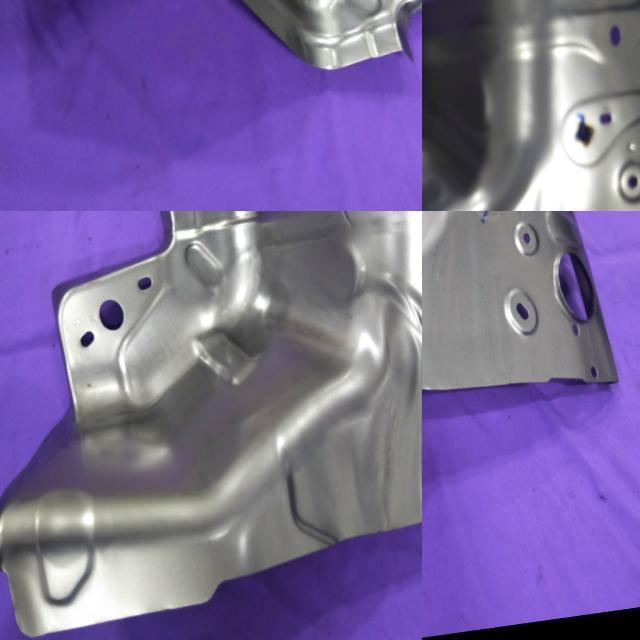Defect: (307, 211, 365, 240)
Healthy: (0, 0, 422, 124), (422, 211, 620, 466), (422, 0, 640, 211)
